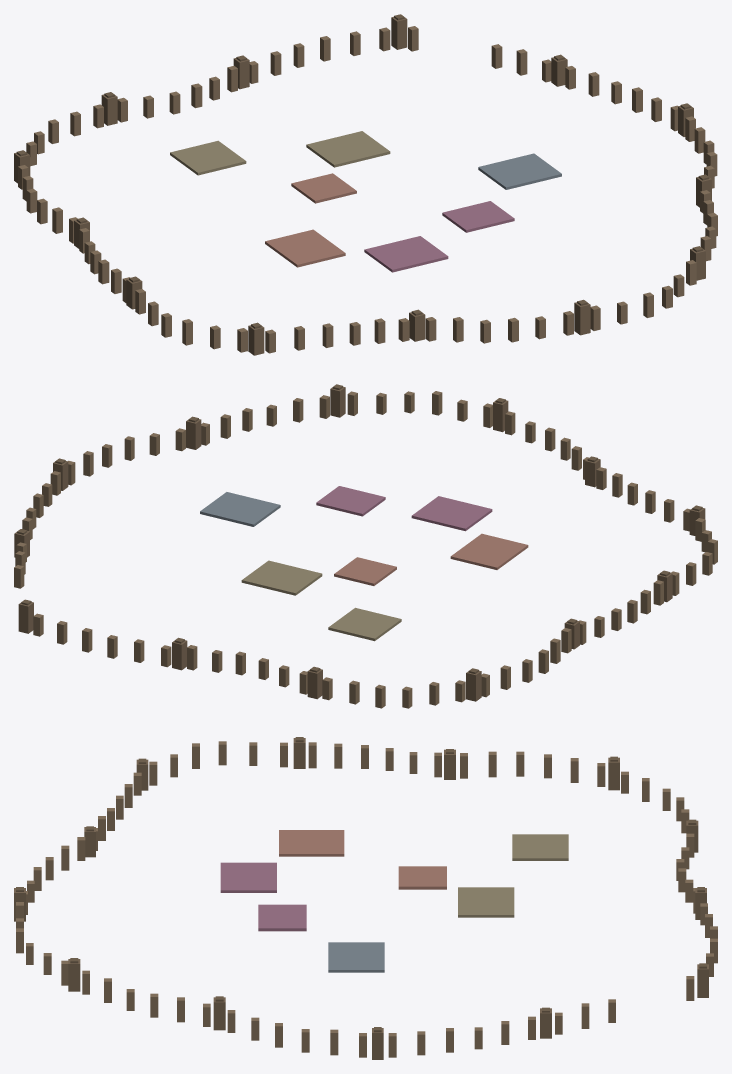
Rendered from ciudad_poblado_orco_poi_58_2147_01.glb.
3 renders of one model, top to bottom at view 1: azimuth 30°, elevation 25°; view 2: azimuth 150°, elevation 25°; view 3: azimuth 270°, elevation 25°, orthographic. The views are drawn at different scales.
Visible parts, largest first — view 1: ciudad_poblado_orco_poi_58_2147; view 2: ciudad_poblado_orco_poi_58_2147; view 3: ciudad_poblado_orco_poi_58_2147.
Part boxes in pixels (x1,y1,x2,y2): ciudad_poblado_orco_poi_58_2147: (14,14,717,355); ciudad_poblado_orco_poi_58_2147: (14,384,717,708); ciudad_poblado_orco_poi_58_2147: (14,737,717,1059).
Size of the model in its own units: 71.3 by 3.4 by 71.2.
